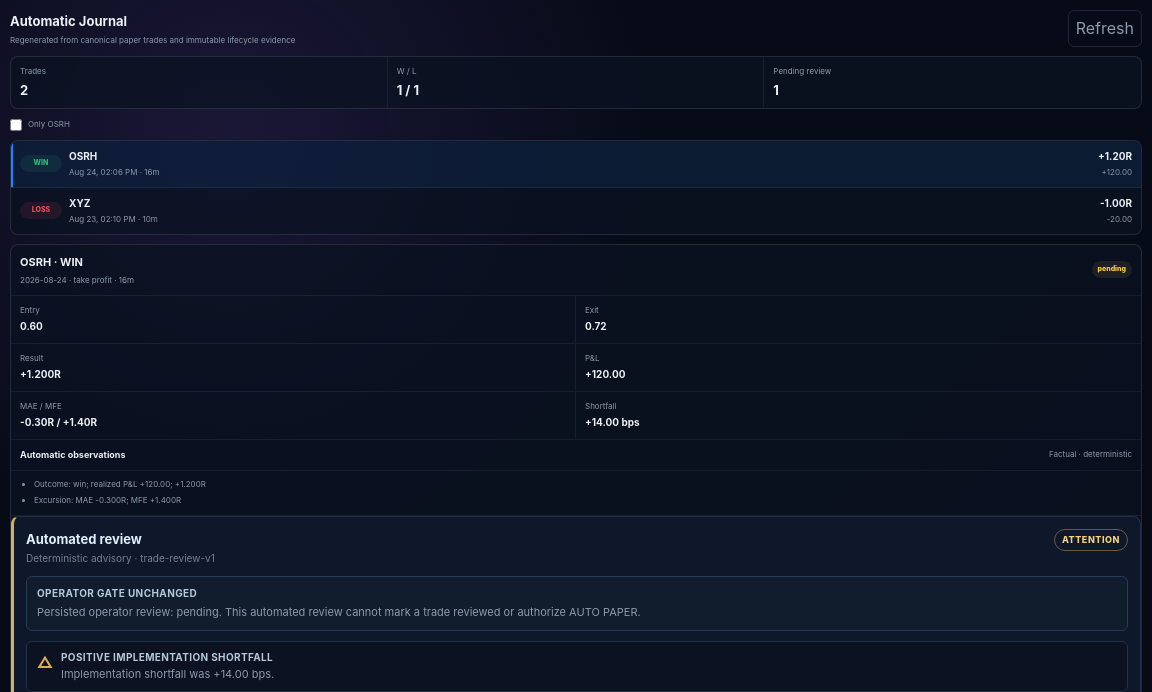
it: TradingTradeJournal › can scope the journal to the selected symbol without changing server evidence or retaining an out-of-scope detail
Expected: the text "OSRH" is shown, [69,150,97,162]
Click the button "LOSS XYZ Aug 23, 02:10 PM · 10m -1.00R -20.00". click: (41, 211)
box: [11,188,1141,234]
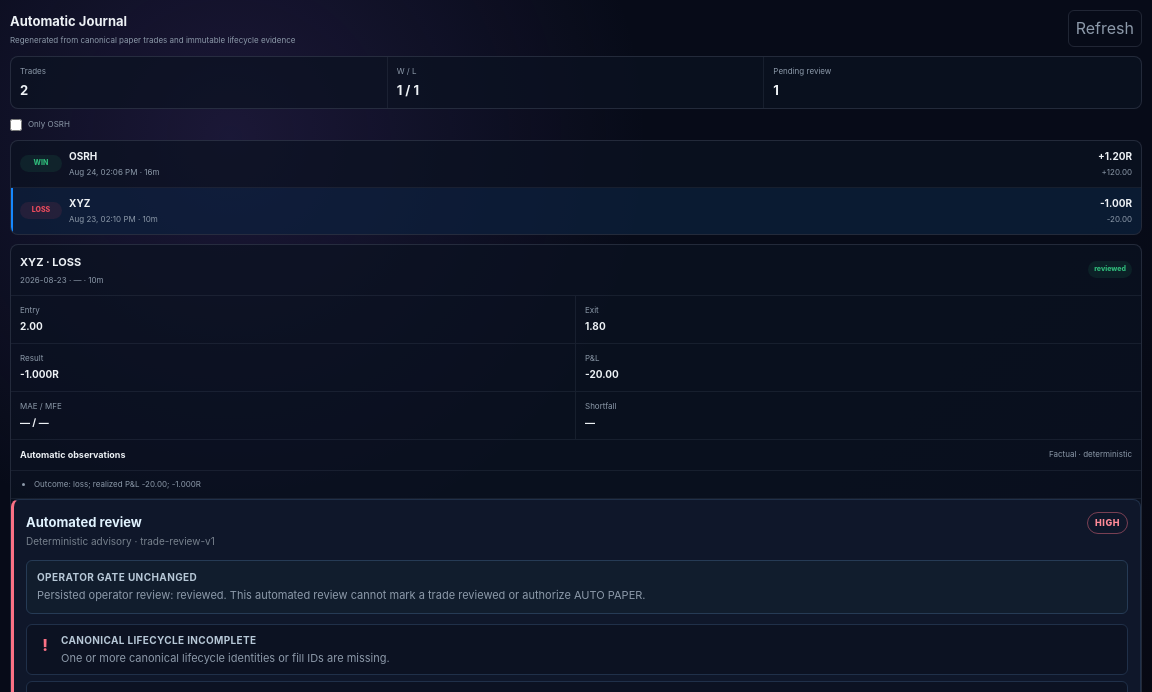
Click the checkbox labelled "Only OSRH". click: (16, 124)
box: [10,118,22,130]
(page scrolled)
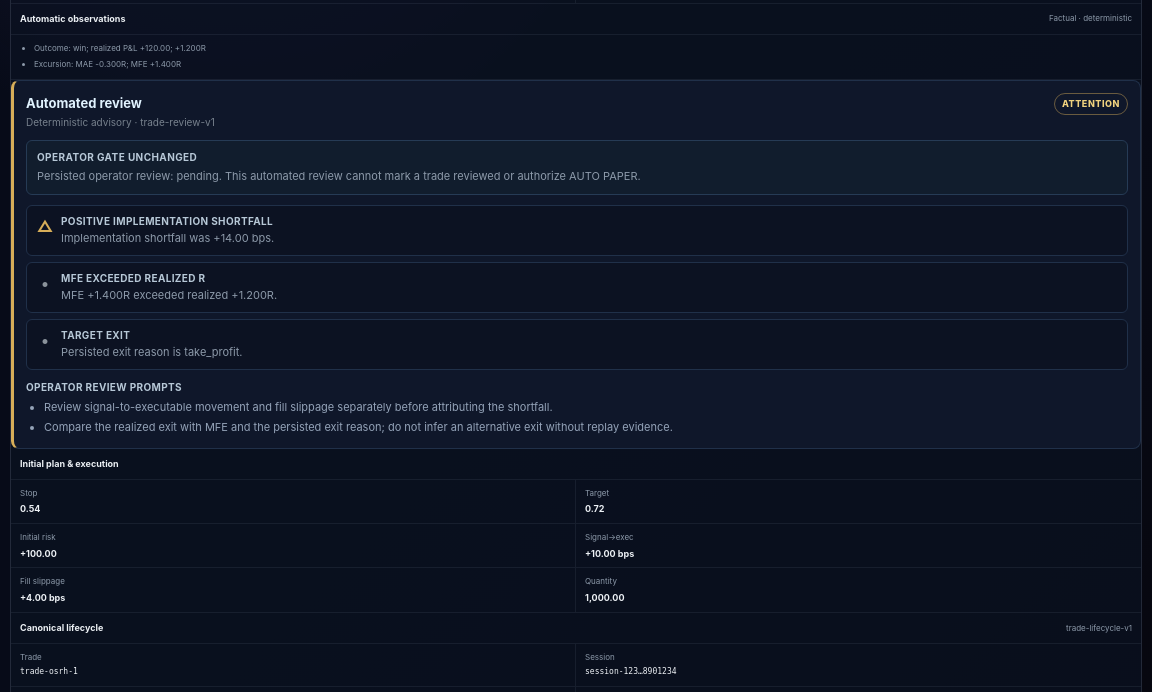
Expected: the button "XYZ" is gone
